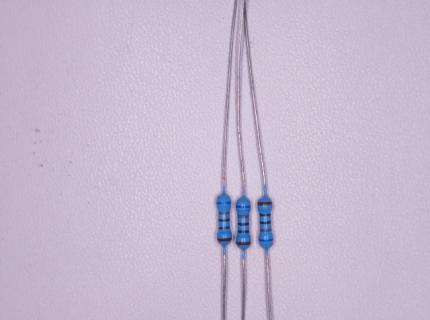Black band: (260, 220, 271, 225), (238, 222, 249, 226), (260, 213, 271, 217), (218, 219, 230, 222), (218, 227, 230, 230), (238, 230, 249, 233)
Blue band: (216, 201, 231, 205), (258, 238, 273, 242), (236, 205, 251, 208)
Brown band: (257, 201, 273, 206), (217, 238, 232, 242), (236, 242, 251, 246)
Grey band: (260, 228, 272, 233), (238, 214, 249, 219), (218, 211, 230, 215)
